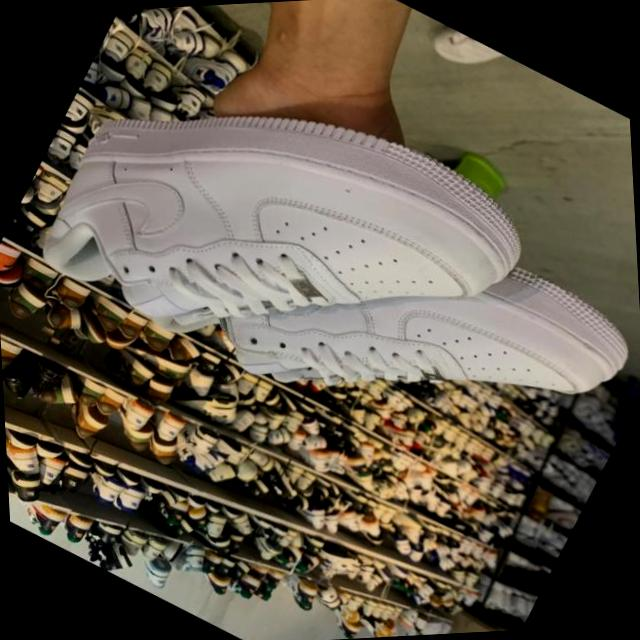nike_fake_airforce: (5, 0, 563, 480), (143, 108, 640, 546)
